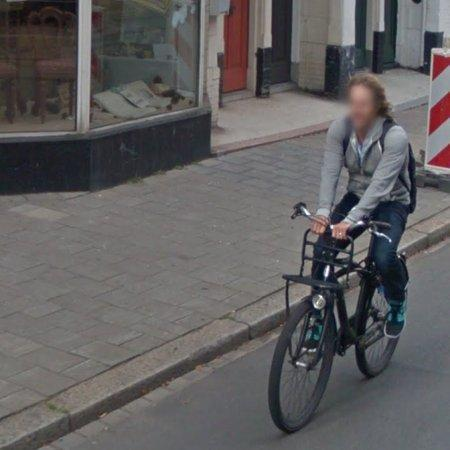bicycles: (269, 222, 400, 434)
